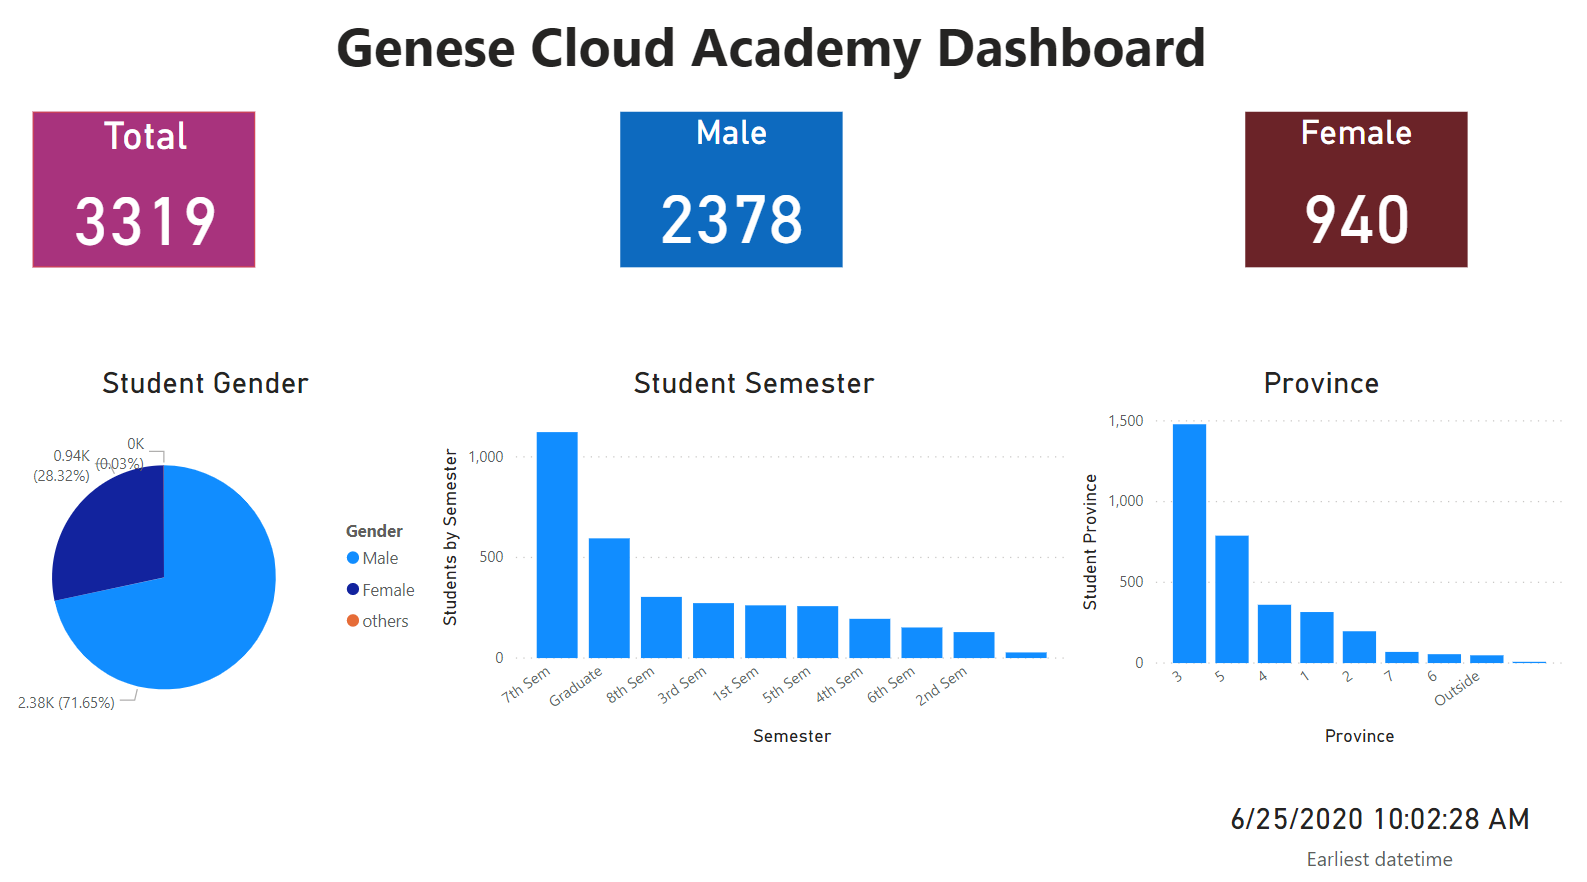

What the dashboard file says about the page in this screenshot:
{"tool":"powerbi","page":{"name":"Dashboard","canvas":[1280,720],"ordinal":0},"visuals":[{"type":"pieChart","title":"Student Gender","fields":{"Category":["user_latest.profile_field_gender1"],"Series":["user_latest.profile_field_gender1"],"Y":["CountNonNull(user_latest.profile_field_gender)"]},"box":[2.1,303.2,367.2,310.5],"z":0},{"type":"columnChart","title":"Student Semester","fields":{"Category":["user_latest.profile_field_Semester1"],"Y":["CountNonNull(user_latest.profile_field_Semester)1"]},"box":[369.4,303.2,513.4,310.5],"z":1000},{"type":"columnChart","title":"Province","fields":{"Category":["user_latest.profile_field_Province1"],"Y":["CountNonNull(user_latest.profile_field_Province)1"]},"box":[882.3,302.7,397.4,310.5],"z":2000},{"type":"card","title":"Total","fields":{"Values":["CountNonNull(user_latest.id)"]},"box":[47.1,98.8,178.8,124.4],"z":3000},{"type":"card","title":"Male","fields":{"Values":["CountNonNull(user_latest.profile_field_gender)"]},"box":[518.2,98.8,178.8,124.4],"z":4000},{"type":"card","title":"Female","fields":{"Values":["CountNonNull(user_latest.profile_field_gender)"]},"box":[1019.5,98.8,178.8,124.4],"z":5000},{"type":"textbox","box":[0,10.9,1279.3,72.5],"z":6000},{"type":"card","fields":{"Values":["Min(Kathmandu.datetime)"]},"box":[994.2,641.5,268.2,68.9],"z":7000}]}

Visuals, with their boxes in screenshot pixels (x1, y1, x2, y2), scaled from the page's 1280x720 canvas onto the 1587x882 screenshot:
"Student Gender" pieChart: [3,371,458,752]
"Student Semester" columnChart: [458,371,1095,752]
"Province" columnChart: [1094,371,1586,751]
"Total" card: [58,121,280,273]
"Male" card: [642,121,864,273]
"Female" card: [1264,121,1486,273]
textbox: [0,13,1586,102]
card - Min(Kathmandu.datetime): [1233,786,1565,870]
